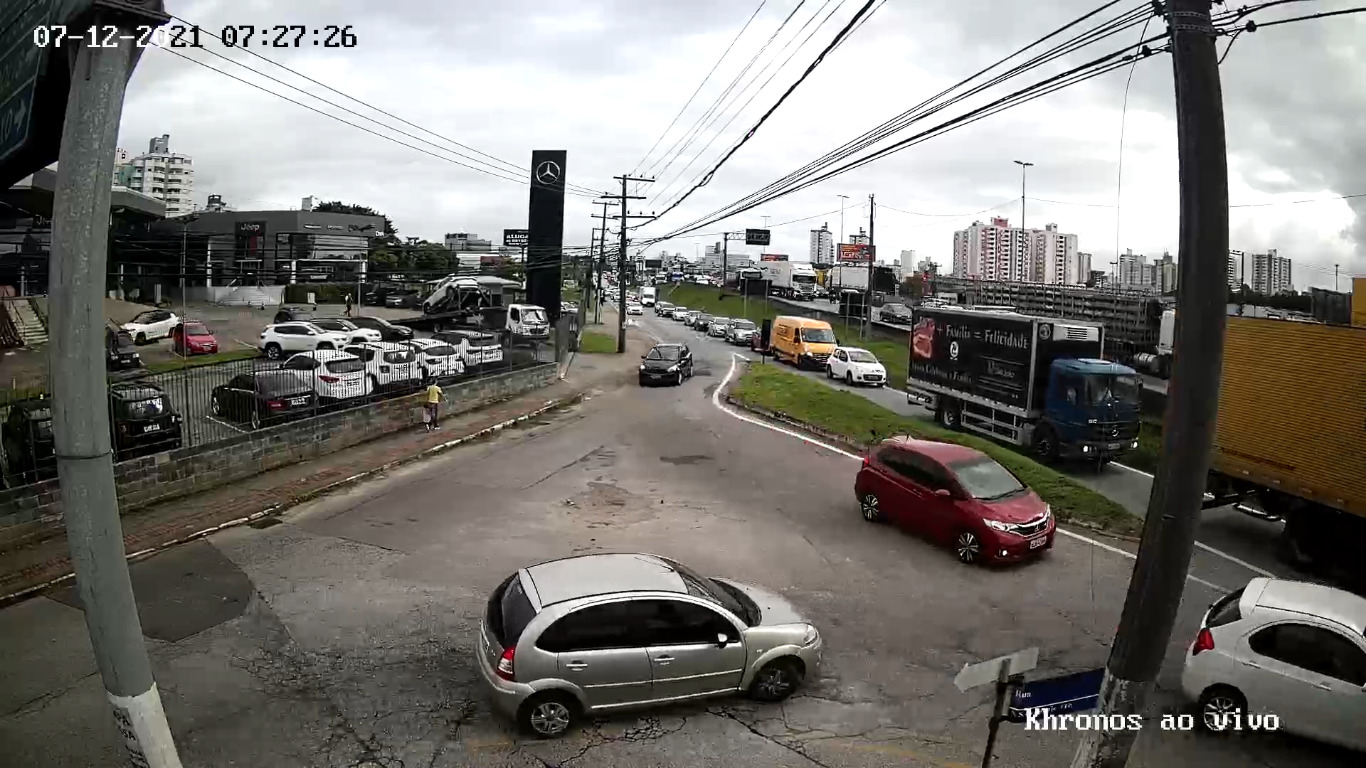car: (476, 553, 822, 738), (1181, 576, 1366, 750), (854, 433, 1056, 567)
